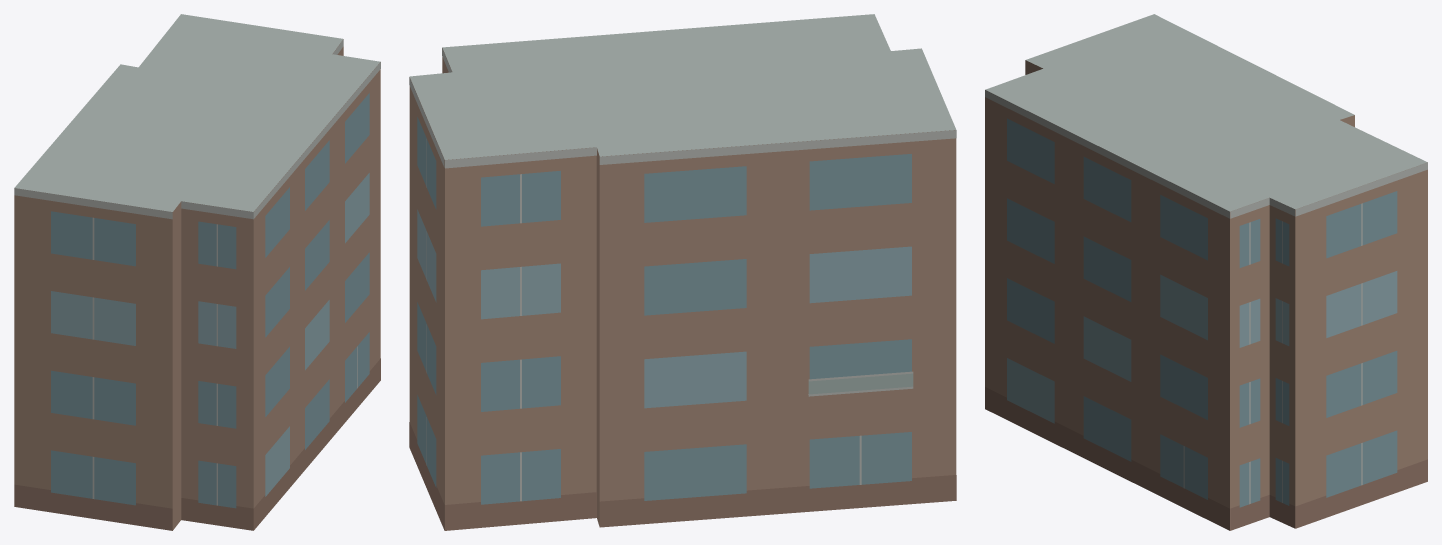
Rendered from survey-upis-32692867.glb.
3 views of the same model, side by side, from view 1: azimuth 30°, elevation 25°; view 2: azimuth 150°, elevation 25°; view 3: azimuth 270°, elevation 25° (orthographic). The views are drawn at different scales.
Parts seen in each view (by area): view 1: survey-upis-32692867.tmp; view 2: survey-upis-32692867.tmp; view 3: survey-upis-32692867.tmp.
Boxes of the visible parts, x1,y1,x2,y2 form: survey-upis-32692867.tmp: [14, 14, 380, 530]; survey-upis-32692867.tmp: [409, 14, 956, 530]; survey-upis-32692867.tmp: [985, 14, 1427, 530].
Size of the model in its own units: 14.21 by 10.7 by 13.45.
